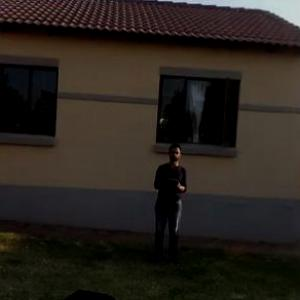follow: (145, 136, 187, 271)
null: (47, 286, 128, 299)
